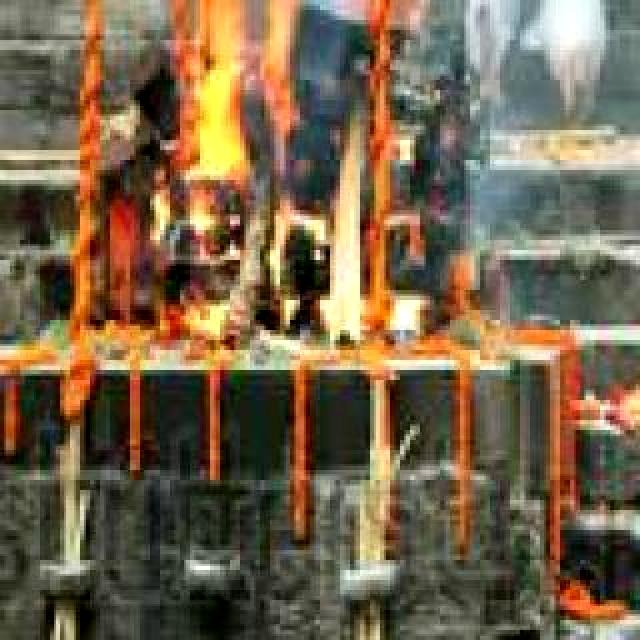fire: (164, 0, 400, 338)
